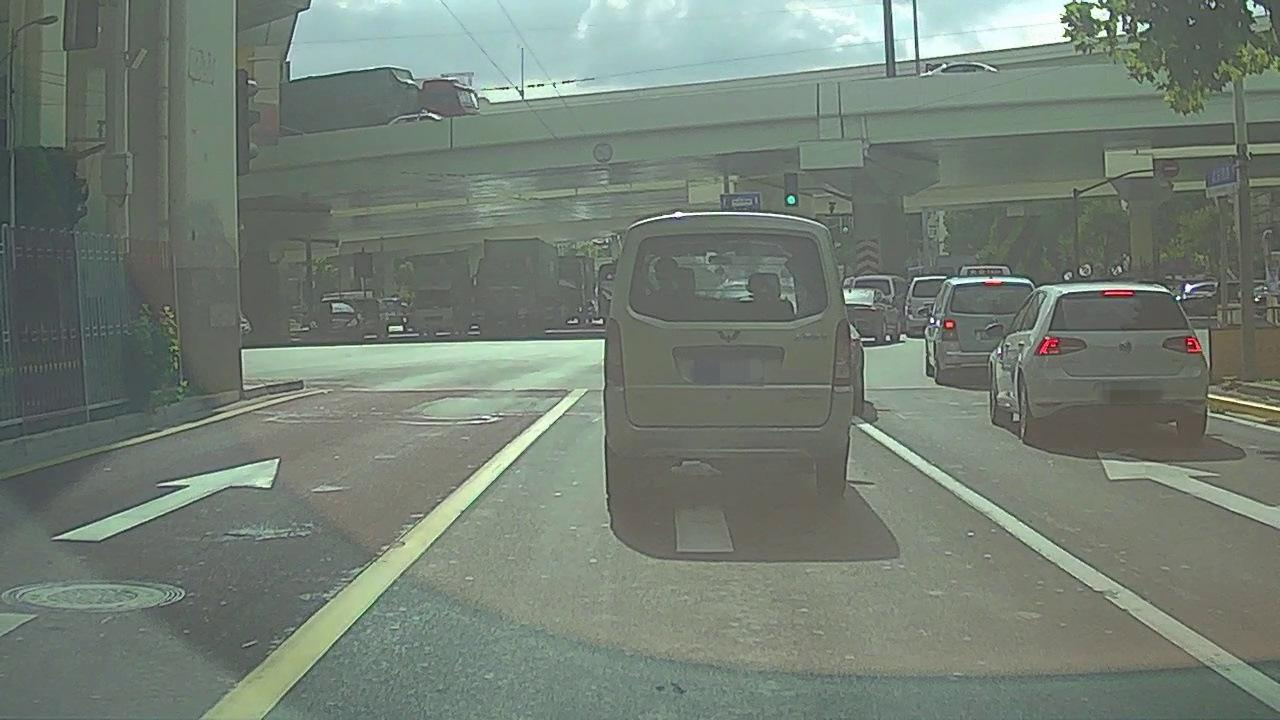traffic_light: (785, 171, 802, 206)
